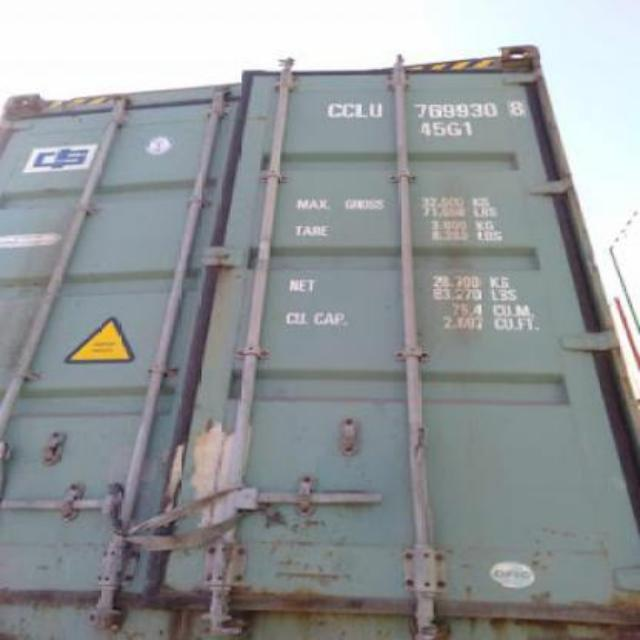0: (482, 102, 496, 120)
3: (471, 104, 484, 120)
6: (428, 102, 442, 122)
7: (414, 104, 428, 120)
8: (510, 100, 526, 116)
9: (440, 102, 456, 118), (454, 102, 470, 118)
C: (326, 102, 344, 120), (342, 100, 356, 116)
L: (356, 100, 368, 120)
U: (368, 100, 384, 120)
